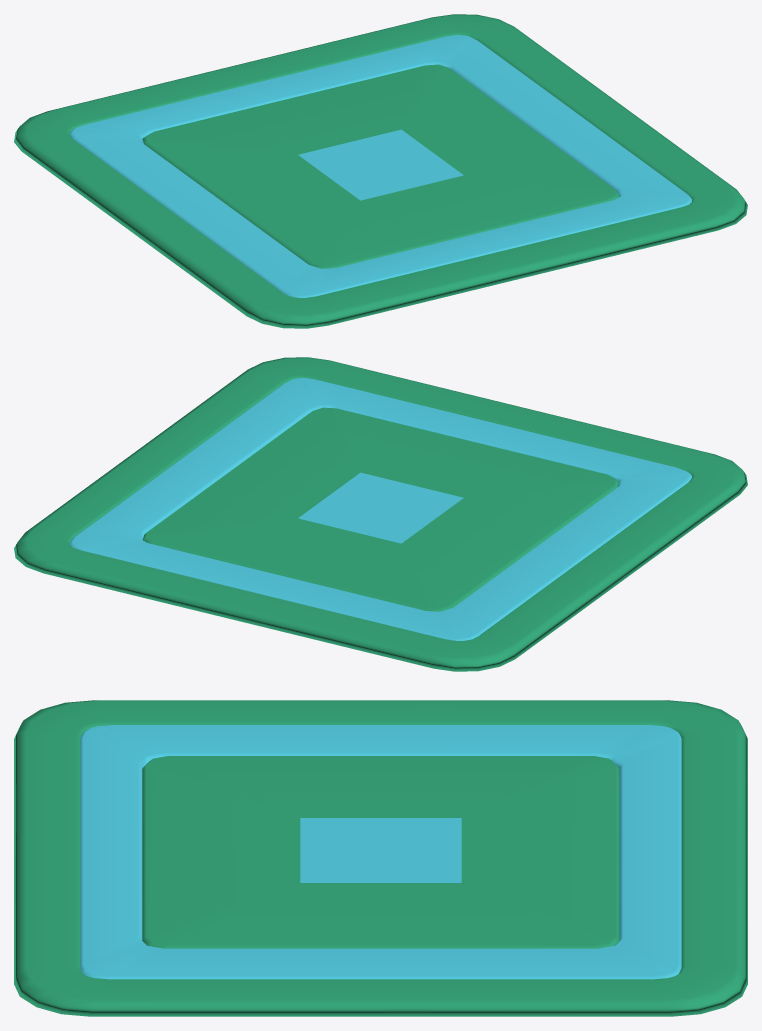
File: Furniture_Rug_05.fbx
3 views of the same model, one above another, from view 1: azimuth 30°, elevation 25°; view 2: azimuth 150°, elevation 25°; view 3: azimuth 270°, elevation 25° (orthographic). The views are drawn at different scales.
Visible parts, largest first — view 1: Furniture_Rug_05; view 2: Furniture_Rug_05; view 3: Furniture_Rug_05.
Boxes of the visible parts, x1,y1,x2,y2 form: Furniture_Rug_05: (14, 14, 747, 328); Furniture_Rug_05: (14, 357, 747, 671); Furniture_Rug_05: (14, 700, 747, 1016).
Size of the model in its own units: 299 by 4.98 by 299.
